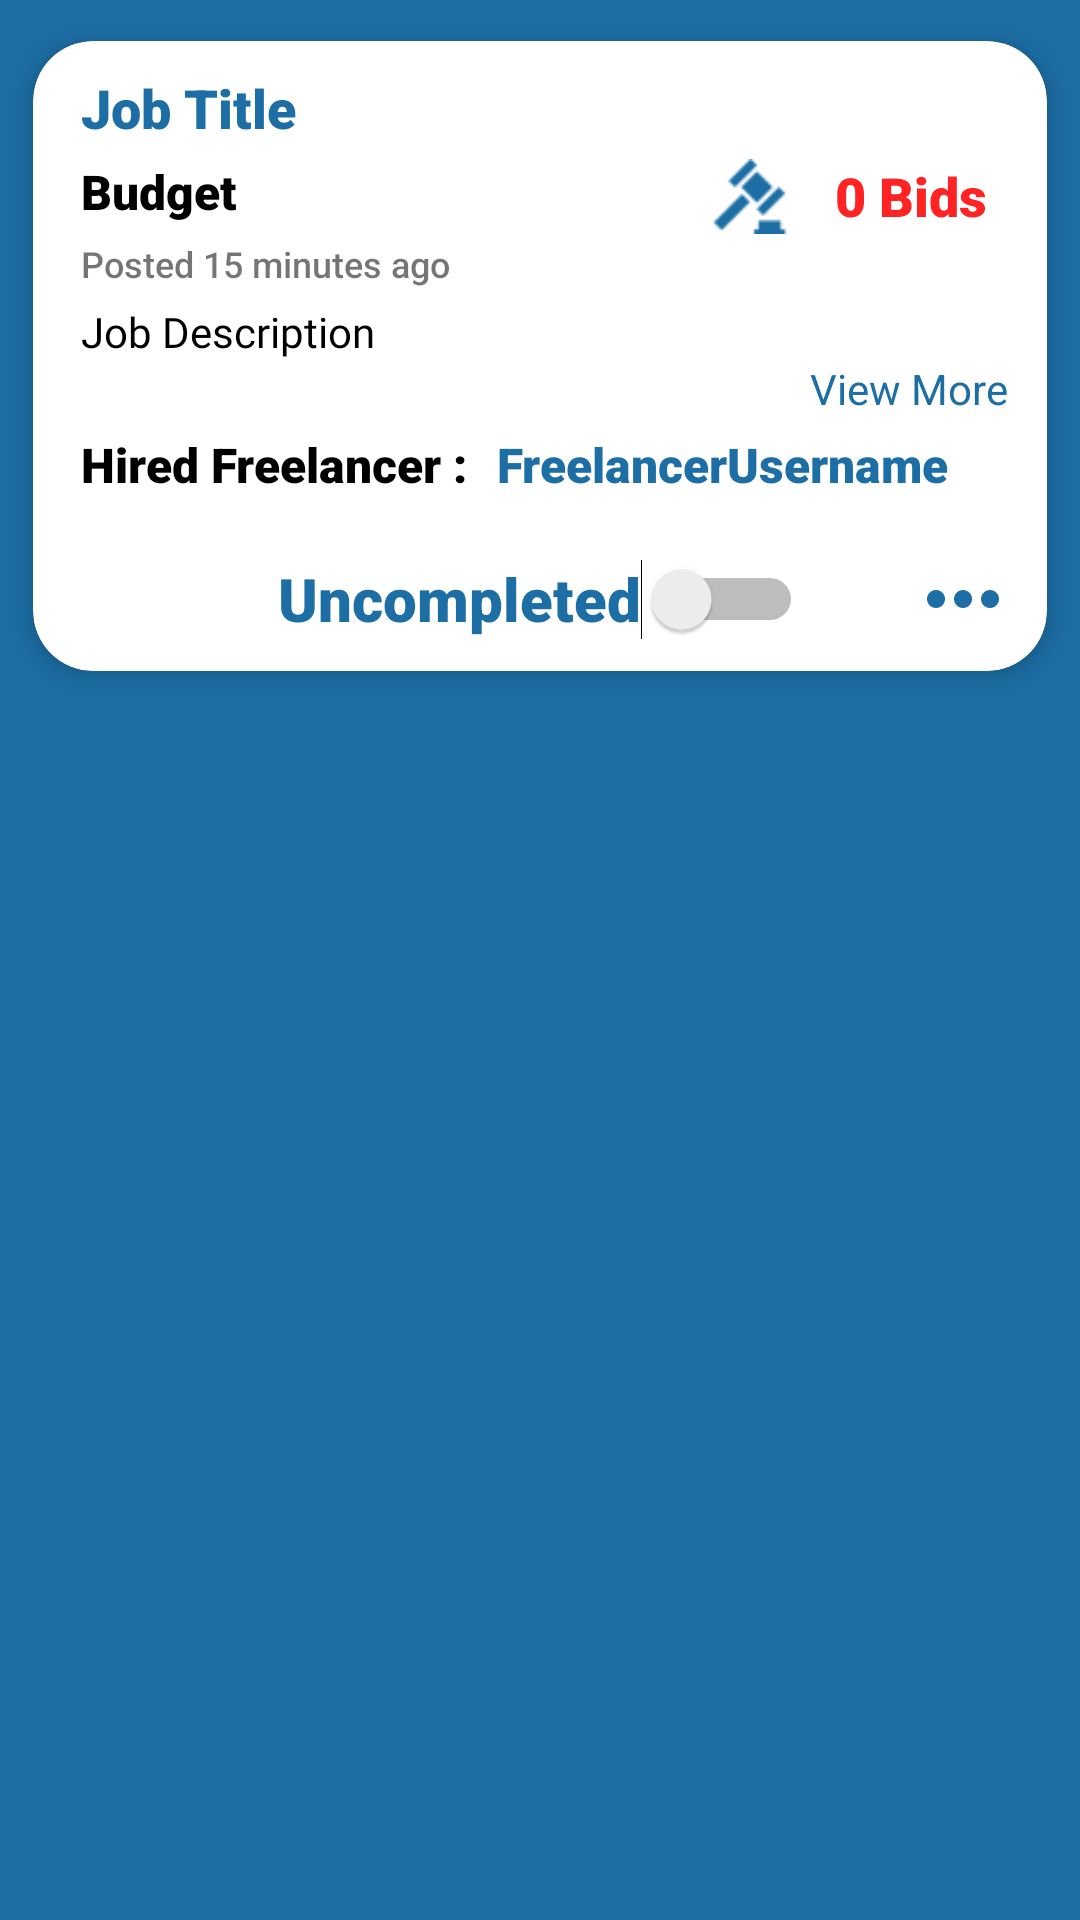

Screen size 1080×1920. Icon name, then its center in pixels as (x,y):
ellipsis: (963,599)
